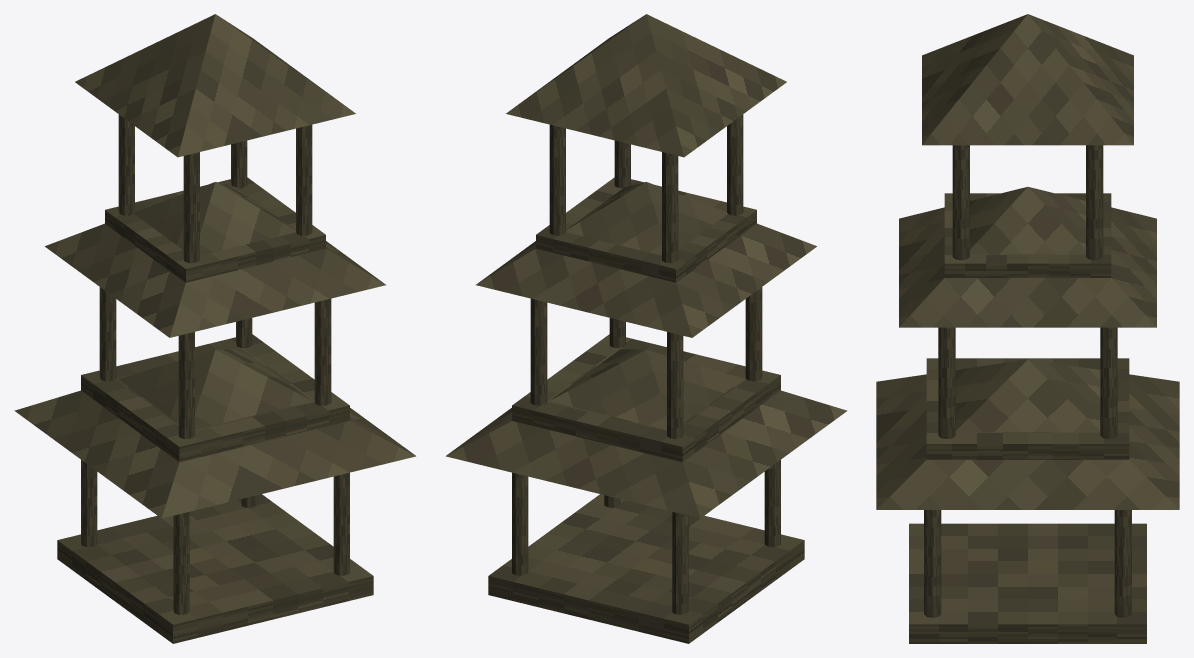
The model's file is pagoda_44.glb.
3 views of the same model, side by side, from view 1: azimuth 30°, elevation 25°; view 2: azimuth 150°, elevation 25°; view 3: azimuth 270°, elevation 25° (orthographic). The views are drawn at different scales.
Parts seen in each view (by area): view 1: Roof, Floor, Roof.001, Roof.002, Floor.001, Floor.002, Column.006, Column.010, Column.008, Column.004, Column, Column.002 (+4 smaller); view 2: Roof, Floor, Roof.001, Roof.002, Floor.001, Floor.002, Column.007, Column.011, Column.009, Column.005, Column.001, Column.003 (+4 smaller); view 3: Roof, Roof.001, Floor, Roof.002, Floor.001, Floor.002, Column.010, Column.011, Column.006, Column.007, Column.002, Column.003.
Boxes of the visible parts, <box> form: Roof: <box>14,349,415,518</box>; Floor: <box>57,494,373,643</box>; Roof.001: <box>45,182,385,337</box>; Roof.002: <box>75,14,355,157</box>; Floor.001: <box>81,334,349,462</box>; Floor.002: <box>105,177,325,282</box>; Column.006: <box>314,298,331,405</box>; Column.010: <box>296,124,312,235</box>; Column.008: <box>183,152,199,263</box>; Column.004: <box>178,332,194,438</box>; Column: <box>173,512,189,614</box>; Column.002: <box>333,472,349,575</box>; Roof: <box>446,349,847,518</box>; Floor: <box>488,494,804,643</box>; Roof.001: <box>476,182,816,337</box>; Roof.002: <box>506,14,786,157</box>; Floor.001: <box>512,334,780,462</box>; Floor.002: <box>536,177,756,282</box>; Column.007: <box>530,298,547,405</box>; Column.011: <box>549,124,565,235</box>; Column.009: <box>662,152,678,263</box>; Column.005: <box>667,332,683,438</box>; Column.001: <box>672,512,688,614</box>; Column.003: <box>512,472,528,575</box>; Roof: <box>876,359,1179,509</box>; Roof.001: <box>899,187,1156,327</box>; Floor: <box>909,523,1146,643</box>; Roof.002: <box>922,14,1133,145</box>; Floor.001: <box>926,358,1129,459</box>; Floor.002: <box>944,193,1111,277</box>; Column.010: <box>952,145,969,260</box>; Column.011: <box>1086,145,1103,260</box>; Column.006: <box>938,327,955,438</box>; Column.007: <box>1100,327,1117,438</box>; Column.002: <box>924,510,941,617</box>; Column.003: <box>1114,510,1131,617</box>.
Size of the model in its own units: 4.18 by 8.81 by 4.18.
1 material, 1 textured.
